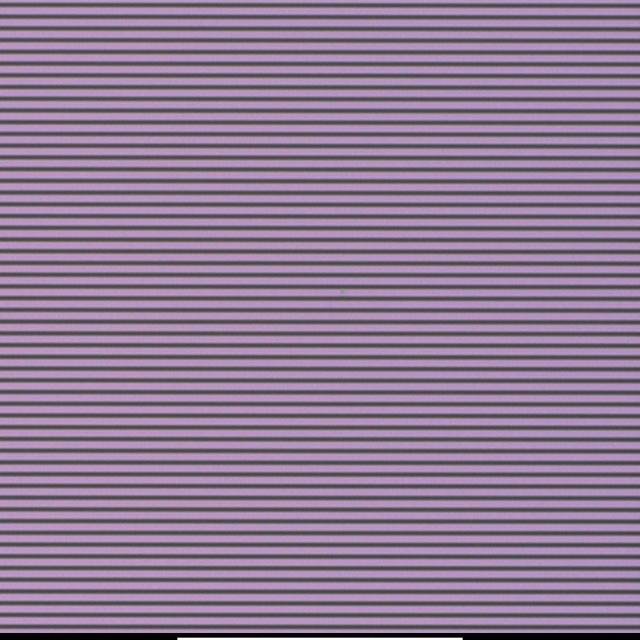nonvisual: (334, 284, 354, 297)
